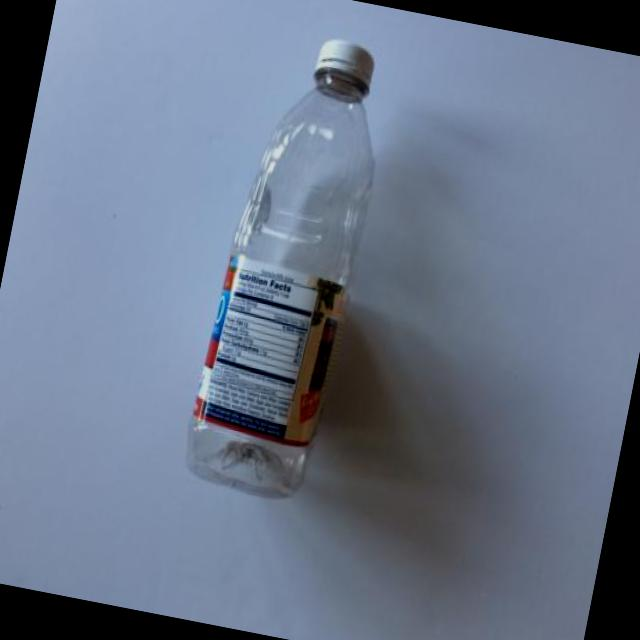Recycle: (185, 17, 402, 495)
